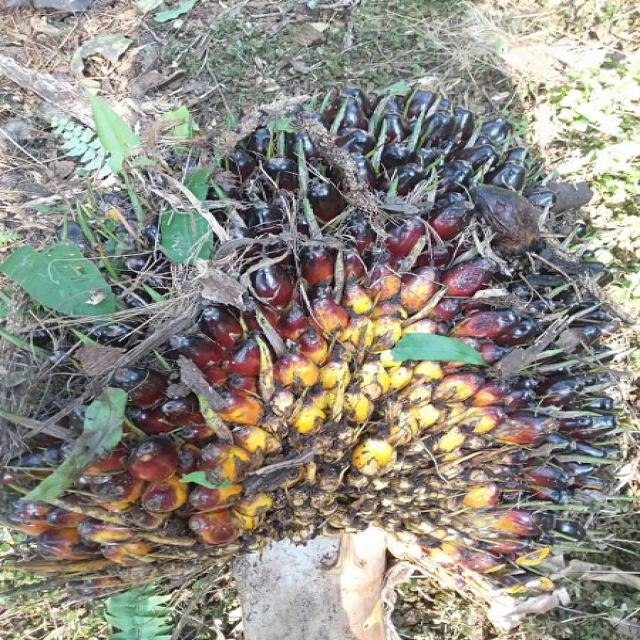fraksi 00: (23, 49, 640, 605)
